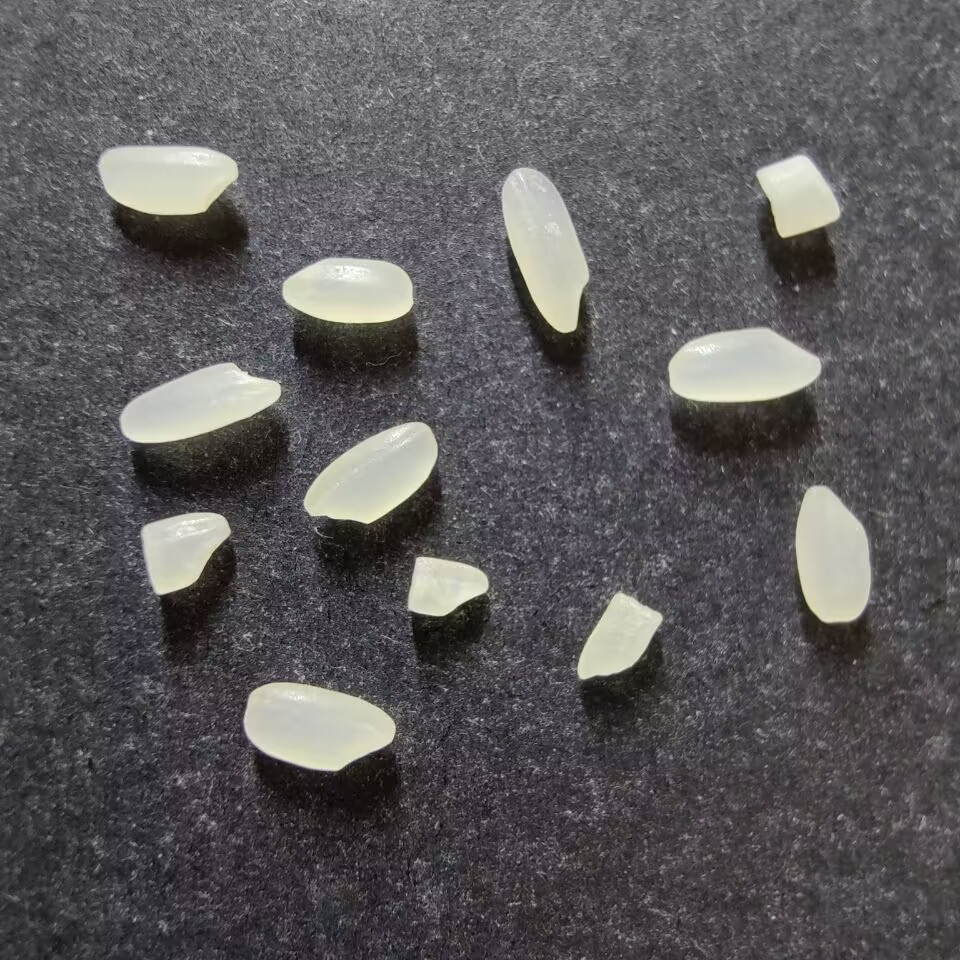broken: (141, 511, 232, 596), (575, 593, 663, 680), (756, 155, 840, 238), (406, 555, 490, 617)
rice: (500, 166, 590, 333), (302, 421, 438, 525), (243, 681, 395, 773), (118, 362, 281, 445), (666, 327, 821, 403), (794, 484, 872, 623), (99, 145, 238, 216), (281, 256, 413, 324)
